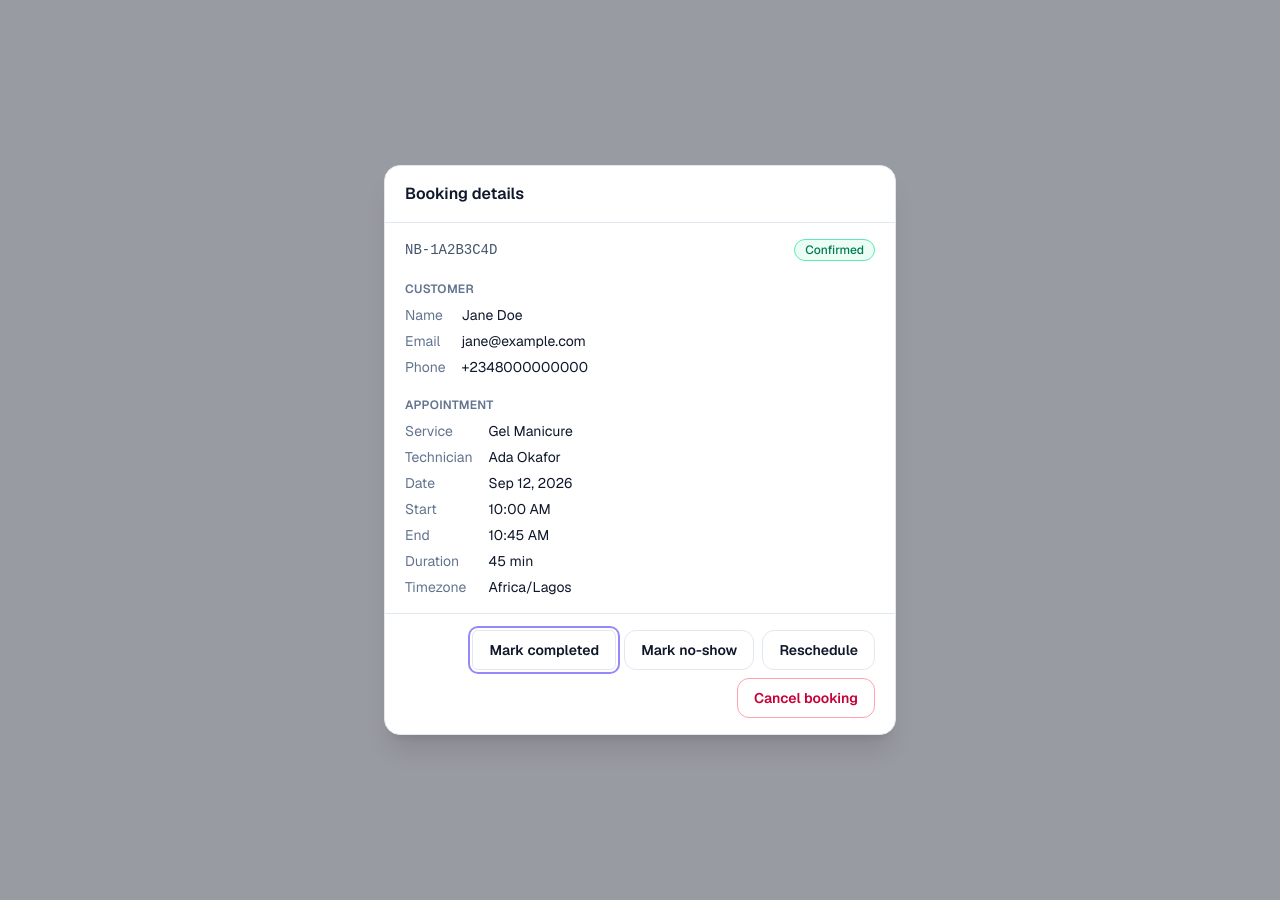
Scenario: BookingDetailDialog — cancellation confirmation › keeps the booking on Keep booking, without cancelling
Step 1. Click the button "Cancel booking" → x=806, y=698, box [737, 678, 875, 718]
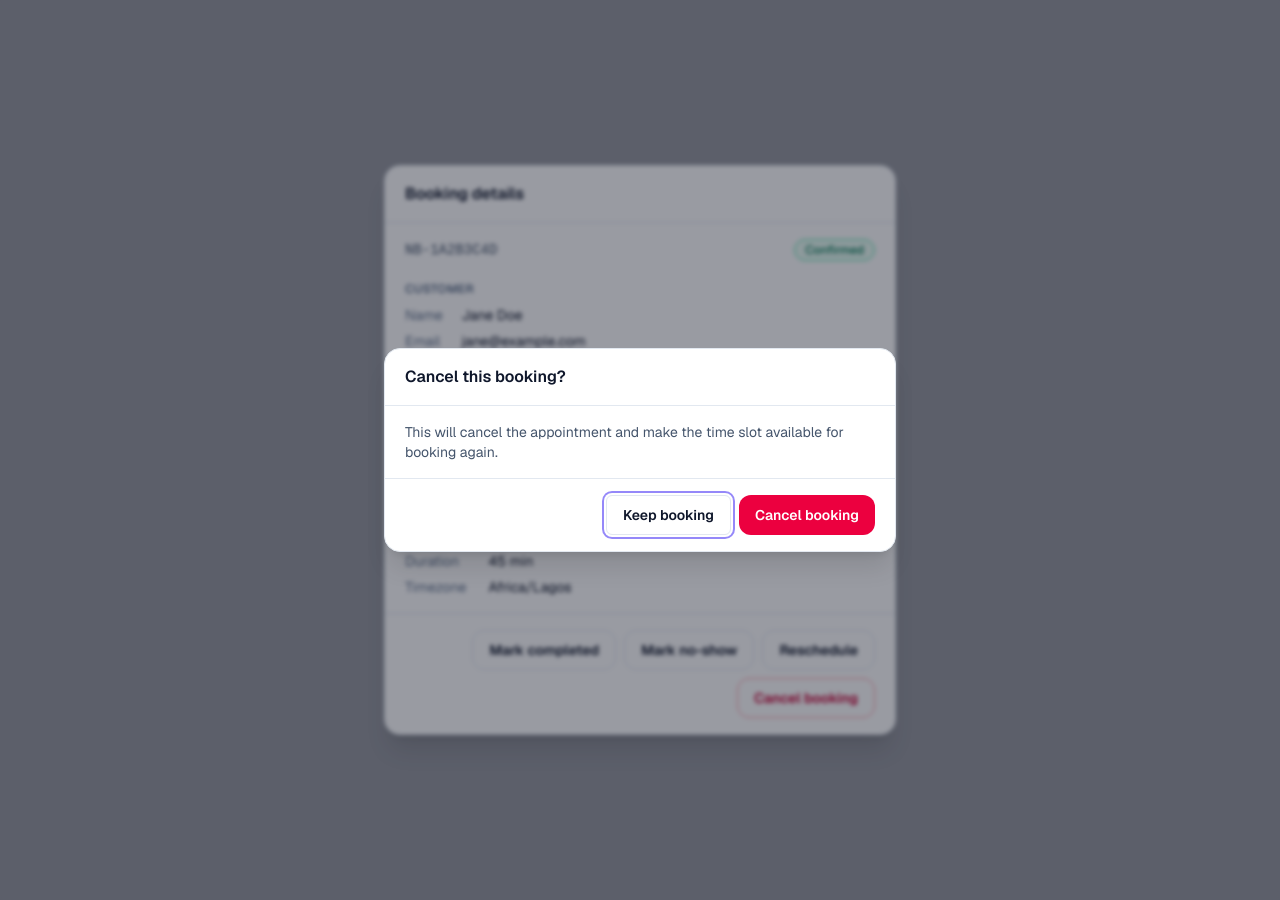
Step 2. Click the button "Keep booking" → x=668, y=515, box [606, 495, 731, 535]
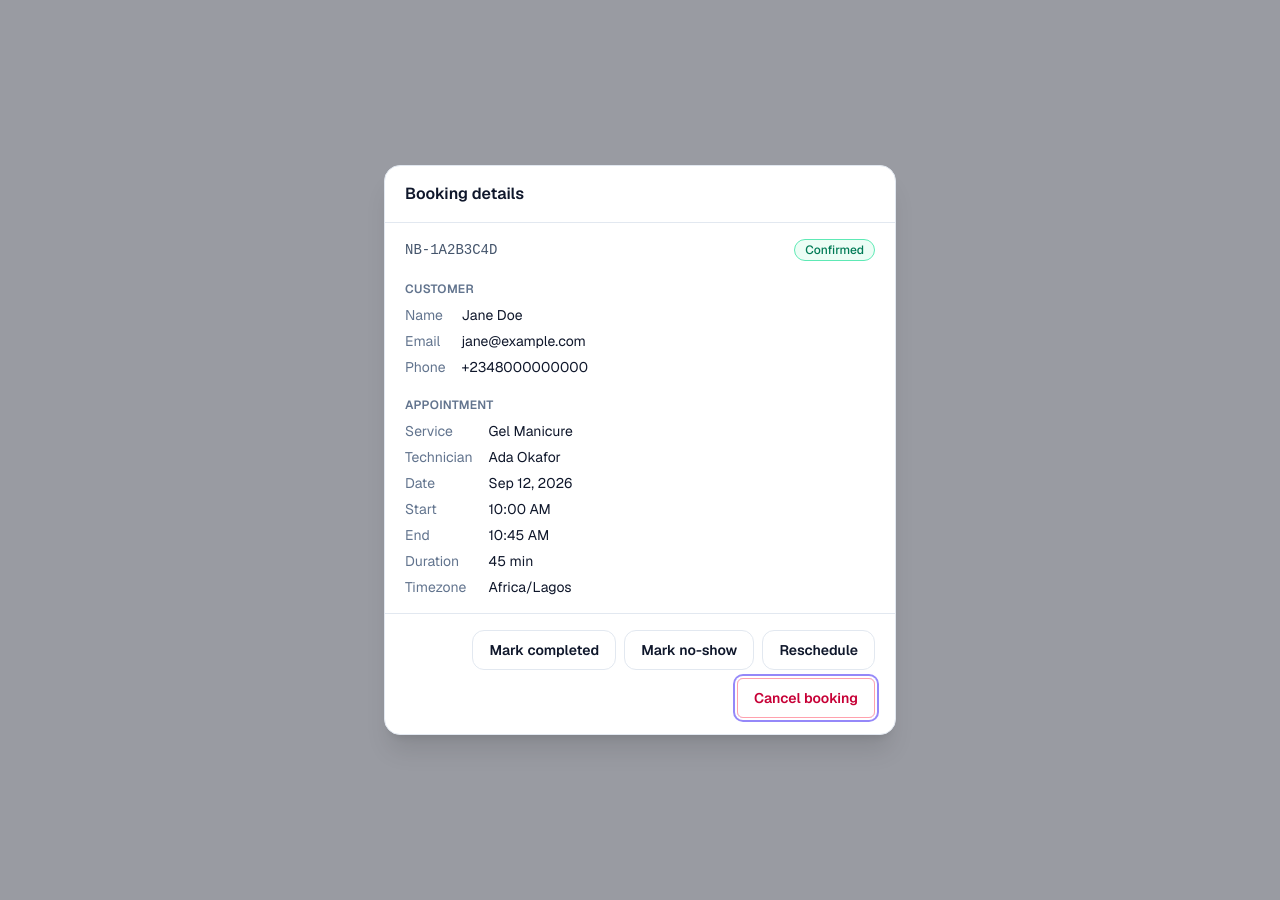
Expected: the heading "Cancel this booking" is gone
